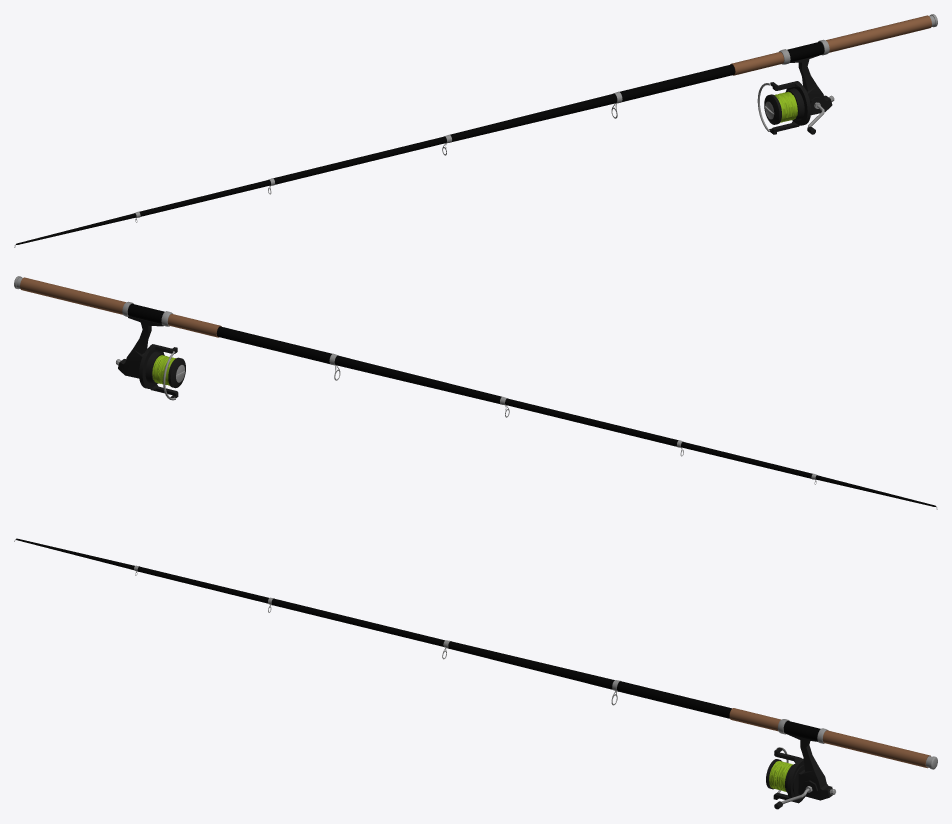
Rendered from zestawfinalnybopaciomaproblem.fbx.
3 renders of one model, top to bottom at view 1: azimuth 30°, elevation 25°; view 2: azimuth 150°, elevation 25°; view 3: azimuth 330°, elevation 25°, orthographic.
Visible parts, largest first — view 1: Cylinder.005; view 2: Cylinder.005; view 3: Cylinder.005.
Part boxes in pixels (x1,y1,x2,y2): Cylinder.005: [14, 14, 937, 247]; Cylinder.005: [14, 276, 937, 509]; Cylinder.005: [14, 538, 937, 809].
Bounding box in the file's own units: 2749 × 32271 × 2039.
